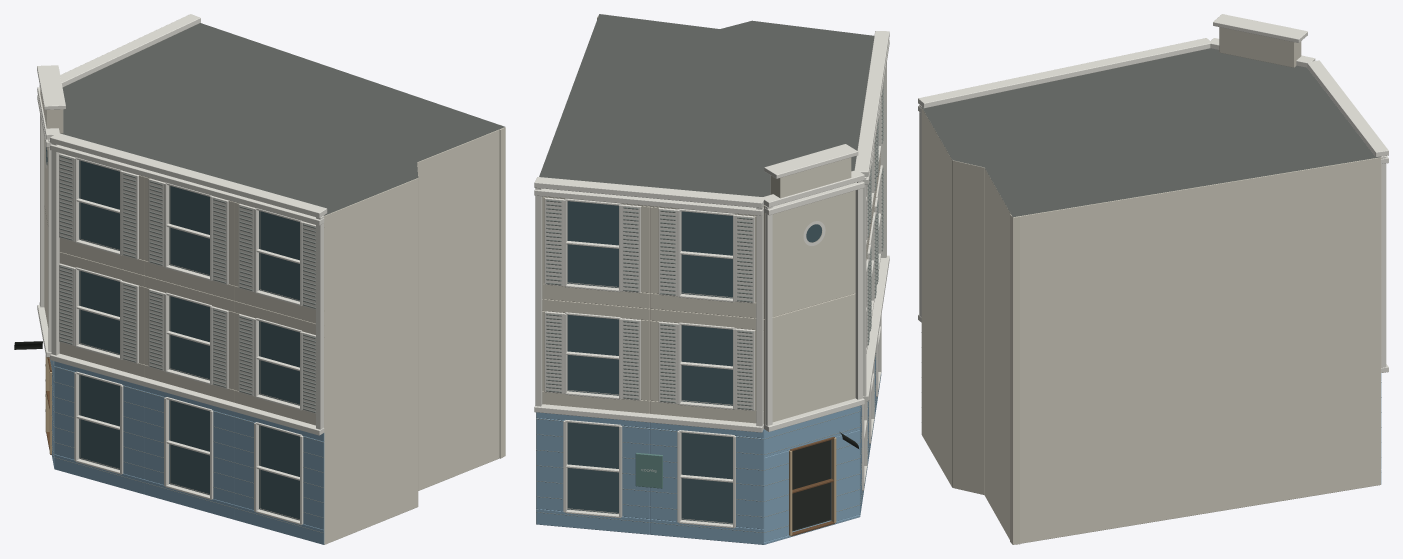
File: 49l-exterior-3dc31b8daf94.glb
3 views of the same model, side by side, from view 1: azimuth 30°, elevation 25°; view 2: azimuth 150°, elevation 25°; view 3: azimuth 270°, elevation 25° (orthographic). The views are drawn at different scales.
Visible parts, largest first — view 1: 49L.001; view 2: 49L.001; view 3: 49L.001.
Boxes of the visible parts, x1,y1,x2,y2 form: 49L.001: [14, 14, 505, 544]; 49L.001: [534, 14, 889, 544]; 49L.001: [918, 14, 1388, 544].
Size of the model in its own units: 12.79 by 11.91 by 14.19.
